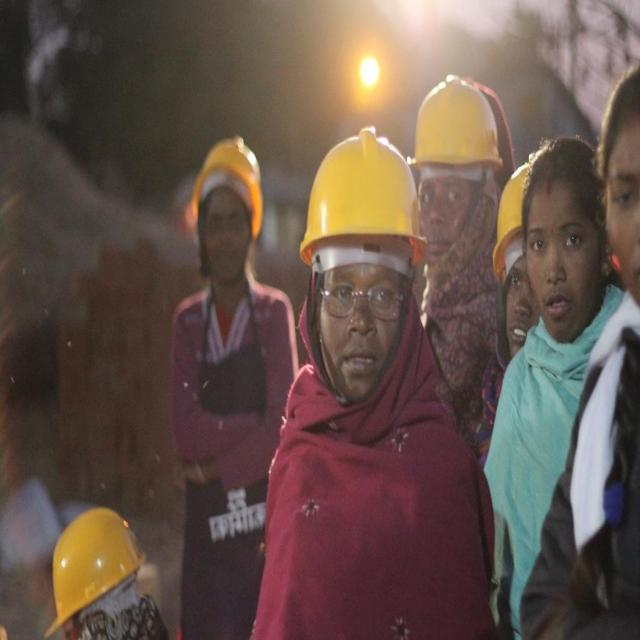Safety-Helmet: (297, 124, 427, 272), (43, 494, 155, 638), (408, 68, 507, 180), (184, 124, 270, 235)
